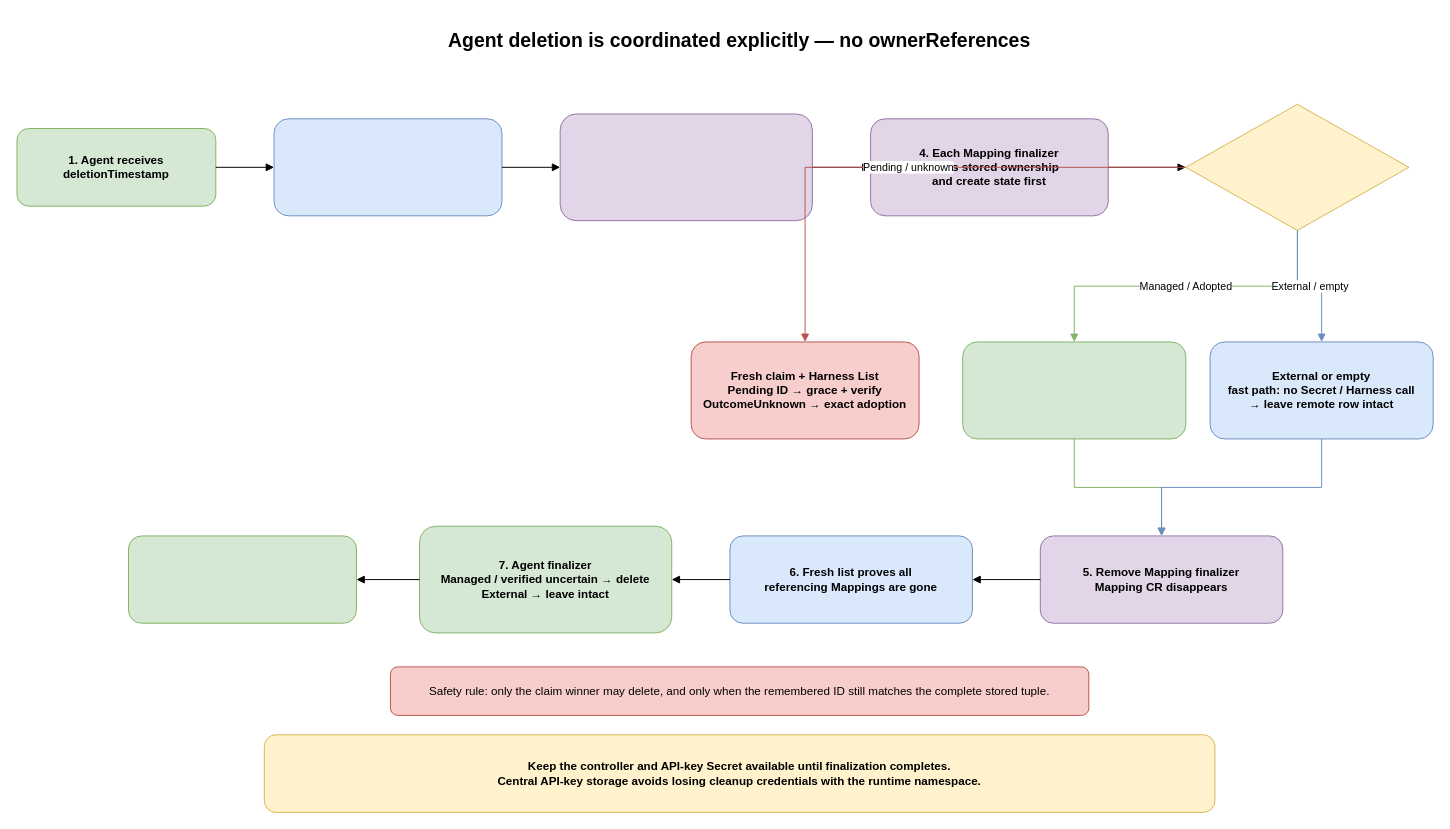
Some shapes in this 1450 by 829 pixel diagram are drawn without their labels. Each missing label, with the centre of its shape:
2. Agent finalizer uses fresh APIReader list for referencing Mappings: the point at 387,167
3. Request deletion of every Mapping CR Ready=False / WaitingForMappings: the point at 685,167
8. Remove Agent finalizer Agent CR disappears: the point at 242,579
Deletion ownership or uncertain create?: the point at 1297,166
Managed or Adopted fresh claim + Harness List exact tuple → delete remote row: the point at 1074,390
